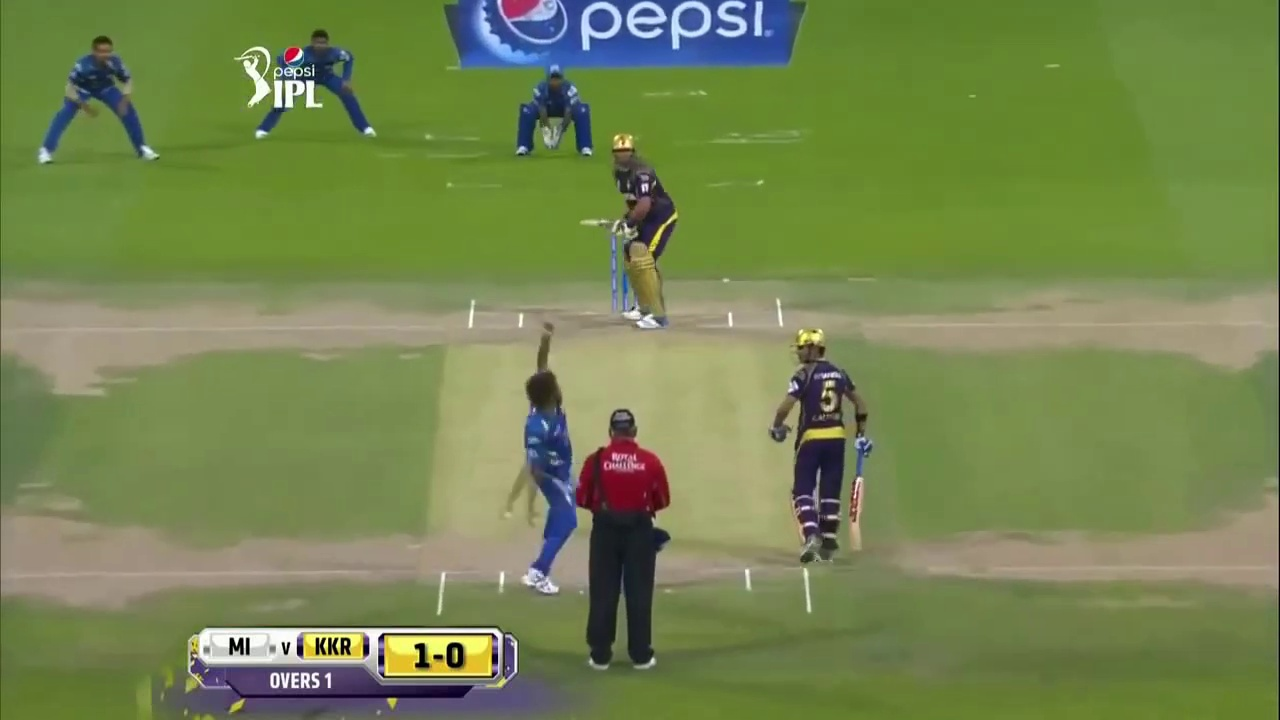bat: (849, 448, 864, 552), (578, 218, 613, 228)
